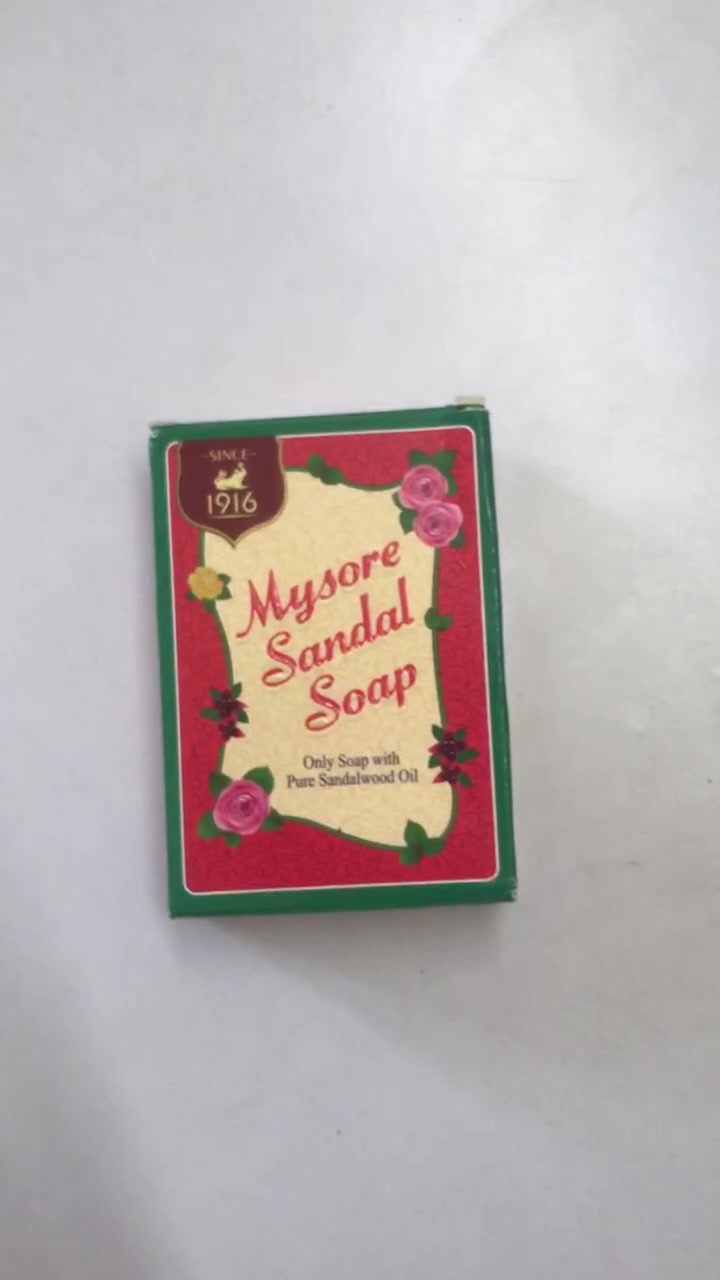mysore sandal soap: (151, 406, 520, 907)
